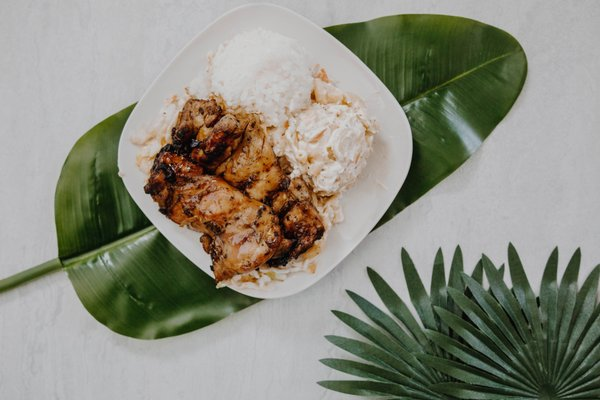salad: (0, 100, 155, 310)
sushi: (62, 10, 415, 321)
